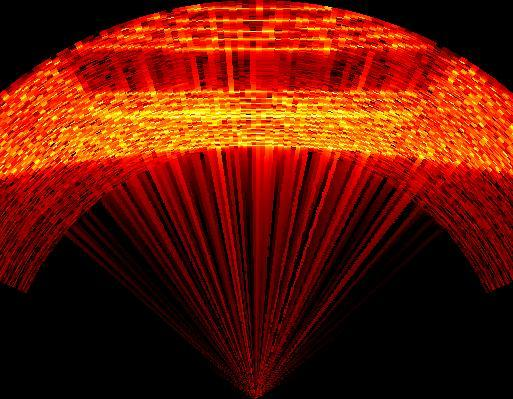pipe: (62, 49, 451, 94)
